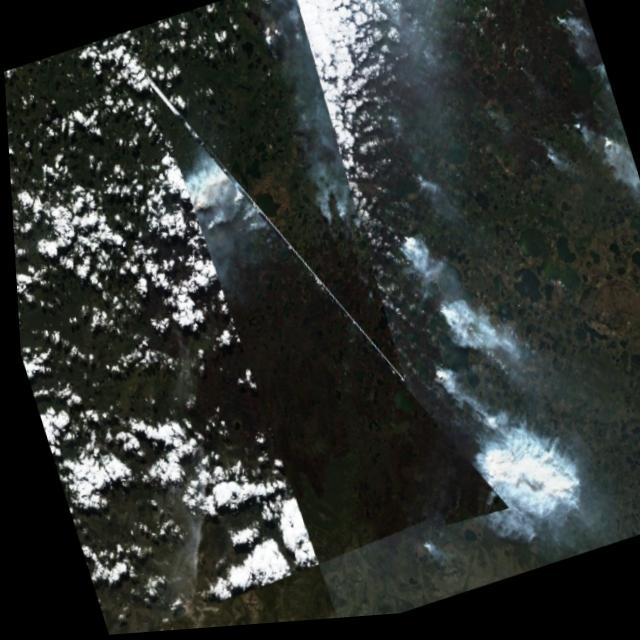fire: (349, 177, 541, 555), (134, 122, 280, 273), (572, 107, 628, 178)
